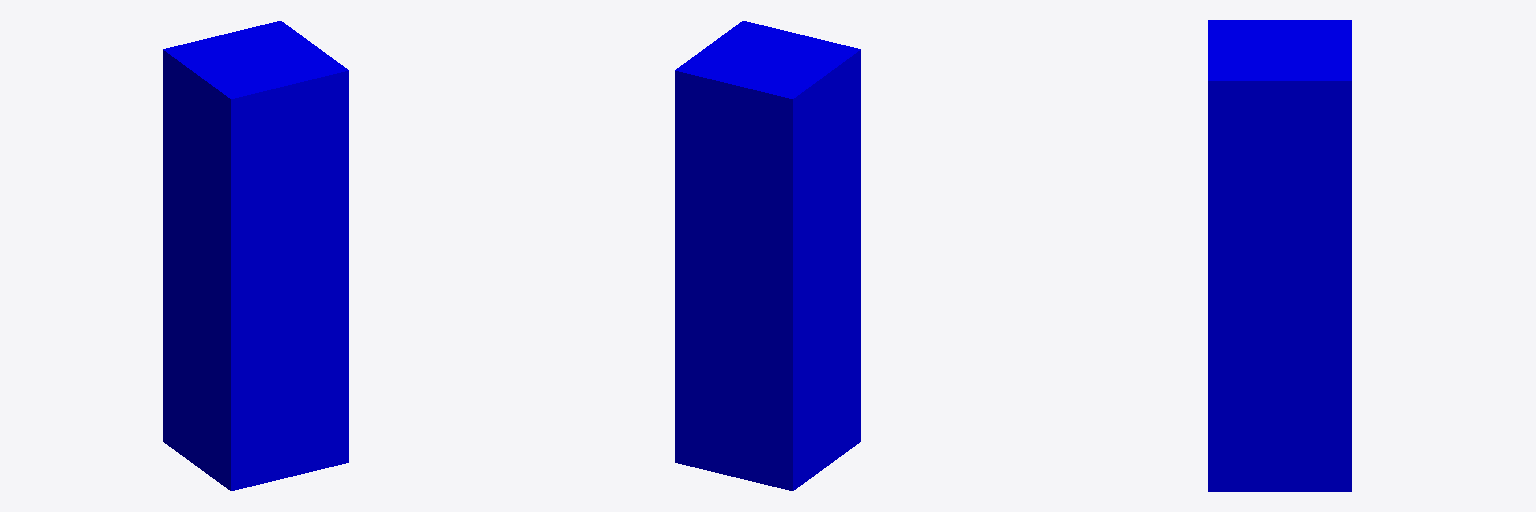
The robot description file, URDF, robot "simple_box":
<?xml version="1.0" ?>
<robot name="simple_box">
  <link name="unknown_obstacle_box">
    <inertial>
      <mass value="500"/>
      <origin xyz="0 0 0.475" rpy="0 0 0"/>
      <inertia ixx="10000" ixy="0" ixz="0" iyy="10000" iyz="0" izz="10000"/>
    </inertial>
    <visual>
      <origin xyz="0 0 0.475"/>
      <geometry>
        <box size="0.3 0.3 0.95" />
      </geometry>
      <material name="Blue">
        <color rgba="0 0 1.0 1.0"/>
      </material>
    </visual>
    <collision>
      <origin xyz="0 0 0.475"/>
      <geometry>
        <box size="0.3 0.3 0.95" />
      </geometry>
    </collision>
  </link>
  <gazebo reference="unknown_obstacle_box">
    <material>Gazebo/Blue</material>
  </gazebo>
</robot>

--- Render facts (derived) ---
The picture shows the robot from 3 angles, left to right: view 1: azimuth 30°, elevation 25°; view 2: azimuth 150°, elevation 25°; view 3: azimuth 270°, elevation 25°; orthographic projection.
Robot: simple_box — 1 links, 0 joints (none); root link unknown_obstacle_box; default pose: every joint at zero.
Visible links, largest first — view 1: unknown_obstacle_box; view 2: unknown_obstacle_box; view 3: unknown_obstacle_box.
Link boxes in pixels (x1,y1,x2,y2): unknown_obstacle_box: [163, 21, 348, 490]; unknown_obstacle_box: [675, 21, 860, 490]; unknown_obstacle_box: [1208, 20, 1351, 491].
Bounding box of the posed robot: 0.3 × 0.3 × 0.95 m (x, y, z).
Geometry: primitives only (box / cylinder / sphere), no mesh files.